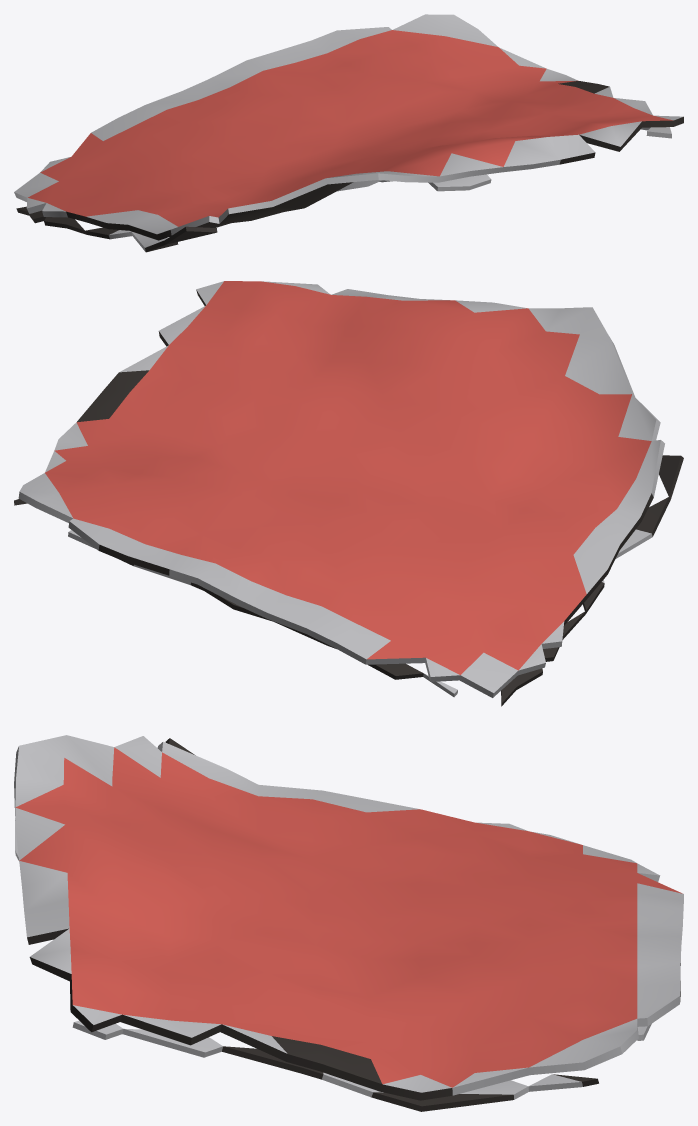
File: Debris_Hood.fbx
The picture shows the model from 3 angles, top to bottom: view 1: azimuth 30°, elevation 25°; view 2: azimuth 150°, elevation 25°; view 3: azimuth 270°, elevation 25°; orthographic projection. The views are drawn at different scales.
Parts seen in each view (by area): view 1: Debris_Hood; view 2: Debris_Hood; view 3: Debris_Hood.
Part boxes in pixels (x1,y1,x2,y2): Debris_Hood: (14, 14, 683, 252); Debris_Hood: (14, 281, 683, 706); Debris_Hood: (14, 735, 683, 1111).
Size of the model in its own units: 1.21 by 0.3949 by 1.06.
